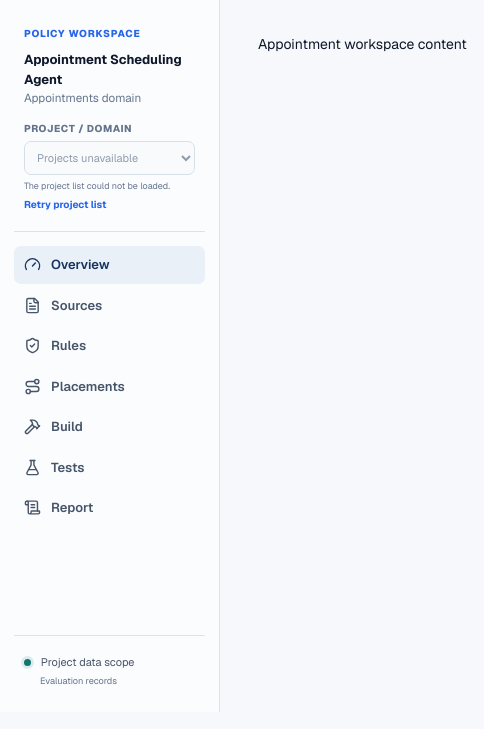
Test: shared project shell › surfaces a project-list failure separately and retries it
The image size is (484, 729).
Expected: the dropdown labelled "Project / domain" is disabled, [24, 140, 195, 174]
Click the button "Retry project list" at (65, 205), box [24, 197, 106, 212]
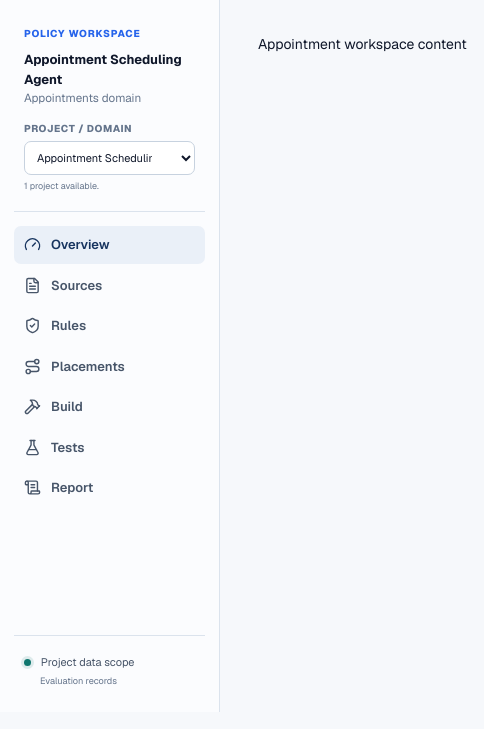
Expected: the dropdown labelled "Project / domain" is enabled, [24, 140, 195, 174]
Expected: the dropdown labelled "Project / domain" shows "Appointment Scheduling Agent · Appointments", [24, 140, 195, 174]
